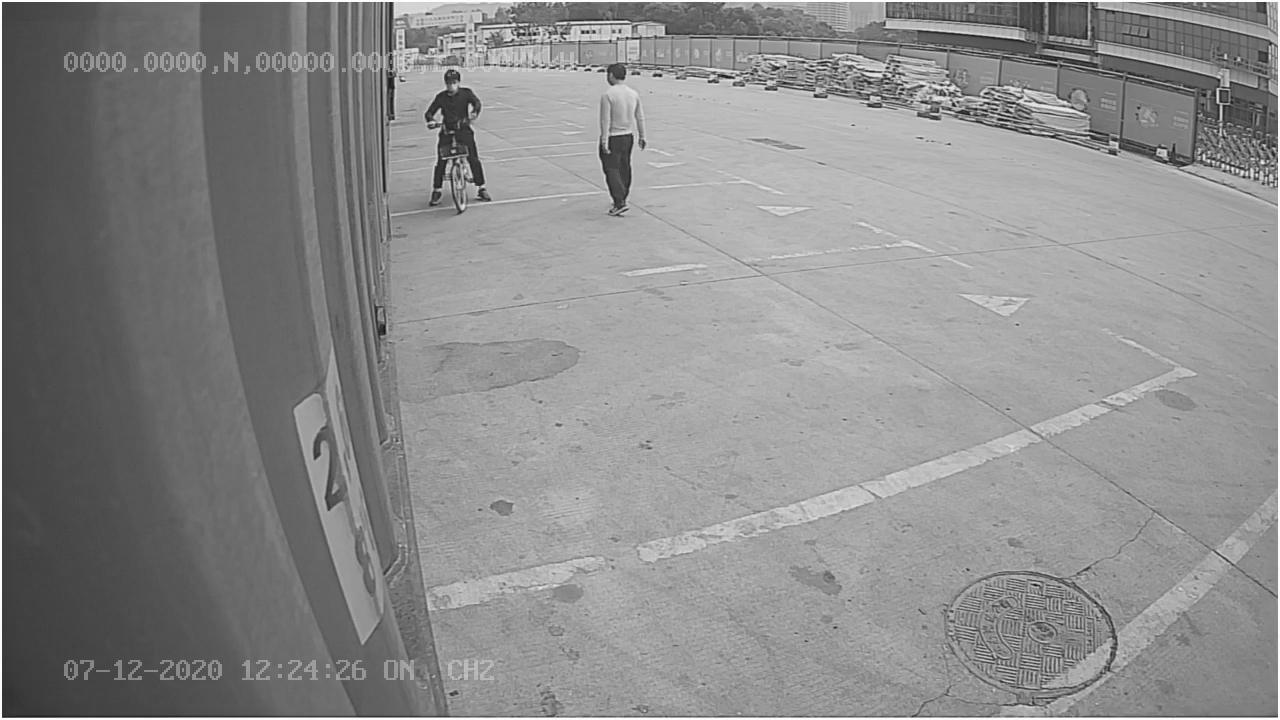person: (590, 60, 651, 219)
